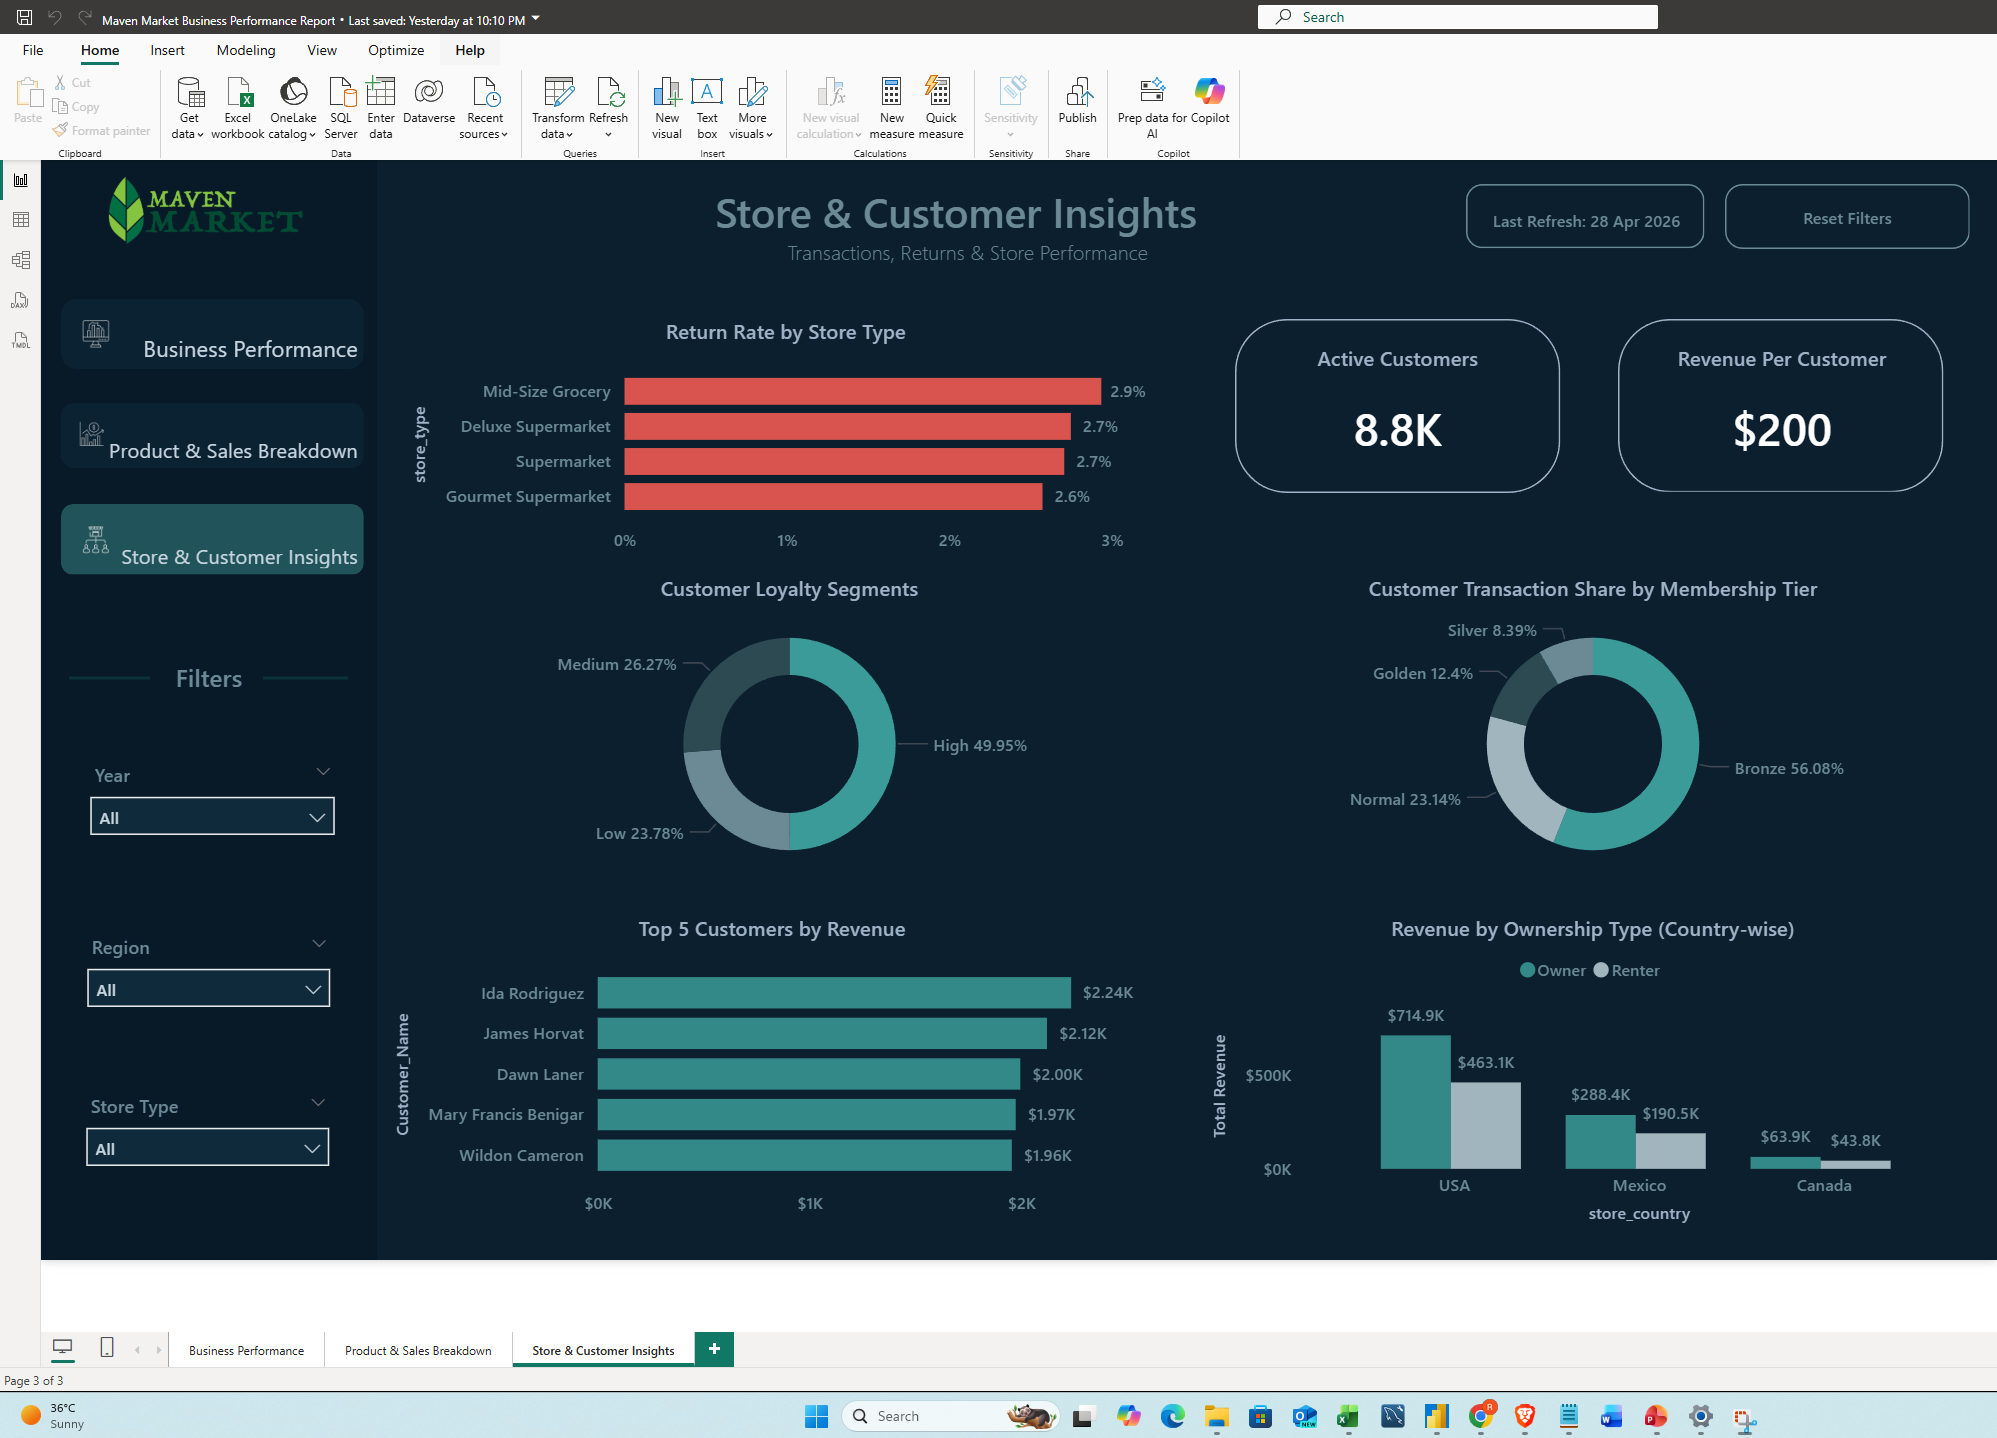

What the dashboard file says about the page in this screenshot:
{"tool":"powerbi","page":{"name":"Store & Customer Insights","canvas":[1280,720],"ordinal":2},"visuals":[{"type":"shape","box":[0,0,219.9,719.8],"z":0},{"type":"group","id":"g1","title":"Group 6","box":[1031.7,104,212.9,113.4],"z":0,"group":"g3"},{"type":"textbox","box":[46.2,322.9,127,39.9],"z":0,"group":"g4"},{"type":"textbox","box":[350.1,15.7,422.7,68.1],"z":1000},{"type":"shape","box":[137.5,326.8,71.3,24.9],"z":1000,"group":"g4"},{"type":"image","box":[17.7,7.9,179.3,50.4],"z":2000},{"type":"shape","box":[10.5,326.8,68.7,24.9],"z":2000,"group":"g4"},{"type":"clusteredBarChart","title":"Return Risk by Store Type","fields":{"Category":["Stores.store_type"],"Y":["Measures Table.Return Rate %"]},"box":[238.9,103.4,497.3,163.6],"z":3000},{"type":"shape","box":[781.3,104,212.9,113.9],"z":3000,"group":"g2"},{"type":"shape","box":[1031.7,104,212.9,113.4],"z":3000,"group":"g1"},{"type":"actionButton","title":"Performance Pulse","box":[13.1,159,198.3,42.5],"z":3000,"group":"g6"},{"type":"group","id":"g2","title":"Group 9","box":[781.3,104,212.9,113.9],"z":4000,"group":"g3"},{"type":"actionButton","title":"Performance Pulse","box":[13.1,225.1,198.3,46.5],"z":4000,"group":"g5"},{"type":"donutChart","title":"Transactions by Membership Tier","fields":{"Category":["Customers.member_card"],"Y":["Measures Table.Total Transactions"]},"box":[762.4,271.6,506.5,204.2],"z":4000},{"type":"group","id":"g3","title":"Group 10","box":[781.3,104,463.3,113.9],"z":5000},{"type":"image","box":[24.5,170.1,18.3,18.3],"z":5000,"group":"g6"},{"type":"image","box":[27.1,239.5,18.3,18.3],"z":5000,"group":"g5"},{"type":"clusteredBarChart","title":"Revenue by Store Type","fields":{"Category":["Stores.store_type"],"Y":["Measures Table.Total Revenue"]},"box":[232.3,494.1,497.3,206.8],"z":6000},{"type":"donutChart","title":"Customer Engagement Segments","fields":{"Category":["Customers.Customer Loyalty"],"Y":["Count(Customers.customer_id)"]},"box":[238.9,271.6,501.9,204.2],"z":7000},{"type":"clusteredColumnChart","title":"Revenue by Home Ownership","fields":{"Category":["Stores.store_country"],"Y":["Measures Table.Total Revenue"],"Series":["Customers.Home Owner Or Renter"]},"box":[762.4,494.1,506.5,206.8],"z":8000},{"type":"actionButton","title":"Performance Pulse","box":[13.1,91,198.3,45.8],"z":9000},{"type":"group","id":"g4","title":"Group 2","box":[10.5,322.9,198.3,39.9],"z":9004,"group":"g7"},{"type":"image","box":[27.1,104.7,18.3,18.3],"z":10000},{"type":"group","id":"g5","title":"Group 3","box":[13.1,225.1,198.3,46.5],"z":11000},{"type":"group","id":"g6","title":"Group 4","box":[13.1,159,198.3,42.5],"z":12000},{"type":"group","id":"g7","title":"Group 1","box":[10.5,322.9,198.3,39.9],"z":13000},{"type":"slicer","fields":{"Values":["Calendar.Year"]},"box":[22.2,389,180,60.2],"z":14000},{"type":"slicer","fields":{"Values":["Regions.sales_region"]},"box":[20.3,501.6,179.3,60.2],"z":15000},{"type":"cardVisual","title":"Active Customers","fields":{"Data":["Measures Table.Active Customers"]},"box":[810.7,121.2,154,83.4],"z":16000,"group":"g2"},{"type":"slicer","fields":{"Values":["Stores.store_type"]},"box":[19.6,605.6,179.3,60.2],"z":16000},{"type":"actionButton","box":[1104,17,158.4,41.2],"z":17000},{"type":"cardVisual","title":"Revenue Per Customer","fields":{"Data":["Measures Table.Avg Revenue per Customer"]},"box":[1067,120.9,144.1,82.4],"z":17000,"group":"g1"},{"type":"cardVisual","fields":{"Data":["Measures Table.Data Period"]},"box":[876.9,15.7,210.7,45.8],"z":18000}]}

Visuals, with their boxes on the page's 1280x720 design canvas (x1, y1, x2, y2). These are canvas units, not pixel positions in the 1997x1438 screenshot, which may show the page scaled, cropped or inside an application window:
shape: {"left": 0, "top": 0, "right": 220, "bottom": 720}
"Group 6" group: {"left": 1032, "top": 104, "right": 1245, "bottom": 217}
textbox: {"left": 46, "top": 323, "right": 173, "bottom": 363}
textbox: {"left": 350, "top": 16, "right": 773, "bottom": 84}
shape: {"left": 138, "top": 327, "right": 209, "bottom": 352}
image: {"left": 18, "top": 8, "right": 197, "bottom": 58}
shape: {"left": 10, "top": 327, "right": 79, "bottom": 352}
"Return Risk by Store Type" clusteredBarChart: {"left": 239, "top": 103, "right": 736, "bottom": 267}
shape: {"left": 781, "top": 104, "right": 994, "bottom": 218}
shape: {"left": 1032, "top": 104, "right": 1245, "bottom": 217}
"Performance Pulse" actionButton: {"left": 13, "top": 159, "right": 211, "bottom": 202}
"Group 9" group: {"left": 781, "top": 104, "right": 994, "bottom": 218}
"Performance Pulse" actionButton: {"left": 13, "top": 225, "right": 211, "bottom": 272}
"Transactions by Membership Tier" donutChart: {"left": 762, "top": 272, "right": 1269, "bottom": 476}
"Group 10" group: {"left": 781, "top": 104, "right": 1245, "bottom": 218}
image: {"left": 24, "top": 170, "right": 43, "bottom": 188}
image: {"left": 27, "top": 240, "right": 45, "bottom": 258}
"Revenue by Store Type" clusteredBarChart: {"left": 232, "top": 494, "right": 730, "bottom": 701}
"Customer Engagement Segments" donutChart: {"left": 239, "top": 272, "right": 741, "bottom": 476}
"Revenue by Home Ownership" clusteredColumnChart: {"left": 762, "top": 494, "right": 1269, "bottom": 701}
"Performance Pulse" actionButton: {"left": 13, "top": 91, "right": 211, "bottom": 137}
"Group 2" group: {"left": 10, "top": 323, "right": 209, "bottom": 363}
image: {"left": 27, "top": 105, "right": 45, "bottom": 123}
"Group 3" group: {"left": 13, "top": 225, "right": 211, "bottom": 272}
"Group 4" group: {"left": 13, "top": 159, "right": 211, "bottom": 202}
"Group 1" group: {"left": 10, "top": 323, "right": 209, "bottom": 363}
slicer - Calendar.Year: {"left": 22, "top": 389, "right": 202, "bottom": 449}
slicer - Regions.sales_region: {"left": 20, "top": 502, "right": 200, "bottom": 562}
"Active Customers" cardVisual: {"left": 811, "top": 121, "right": 965, "bottom": 205}
slicer - Stores.store_type: {"left": 20, "top": 606, "right": 199, "bottom": 666}
actionButton: {"left": 1104, "top": 17, "right": 1262, "bottom": 58}
"Revenue Per Customer" cardVisual: {"left": 1067, "top": 121, "right": 1211, "bottom": 203}
cardVisual - Measures Table.Data Period: {"left": 877, "top": 16, "right": 1088, "bottom": 62}
